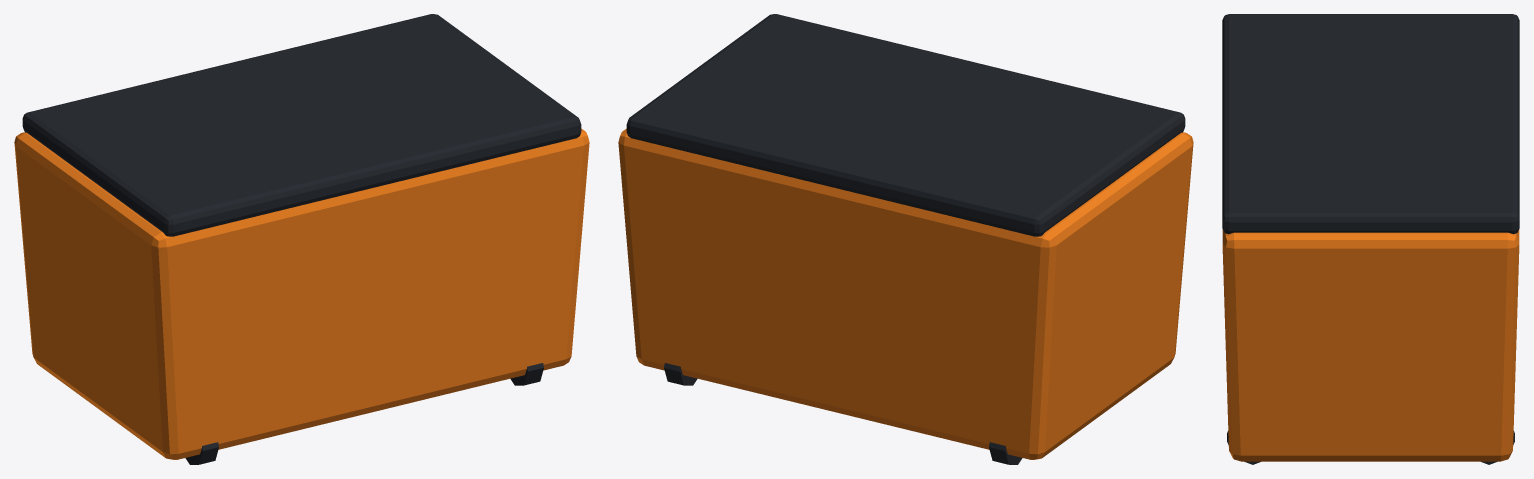
Rendered from prop_dumpster.glb.
The picture shows the model from 3 angles, left to right: view 1: azimuth 30°, elevation 25°; view 2: azimuth 150°, elevation 25°; view 3: azimuth 270°, elevation 25°; orthographic projection.
Parts seen in each view (by area): view 1: Body, Lid; view 2: Body, Lid; view 3: Body, Lid.
Boxes of the visible parts, bbox=[...] form: Body: bbox=[14, 128, 589, 459]; Lid: bbox=[22, 14, 581, 236]; Body: bbox=[618, 128, 1193, 459]; Lid: bbox=[626, 14, 1185, 236]; Body: bbox=[1222, 229, 1519, 461]; Lid: bbox=[1222, 14, 1519, 234].
Bounding box in the file's own units: 2.15 × 1.25 × 1.26.
